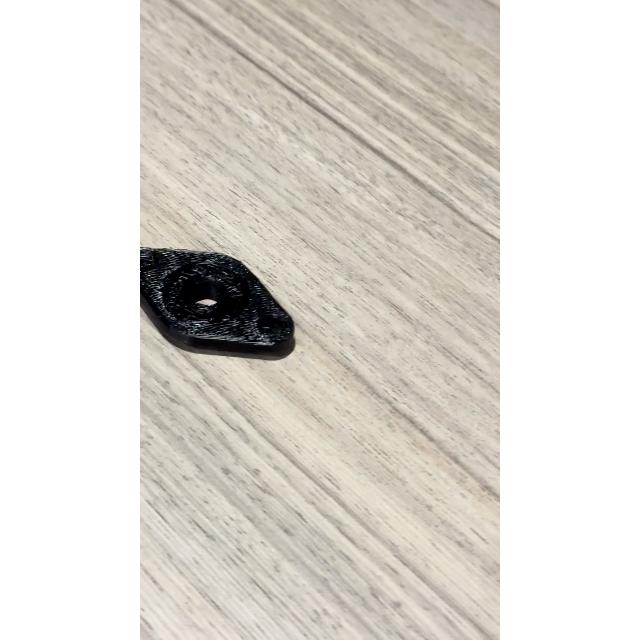Pieza_2: (140, 234, 312, 372)
